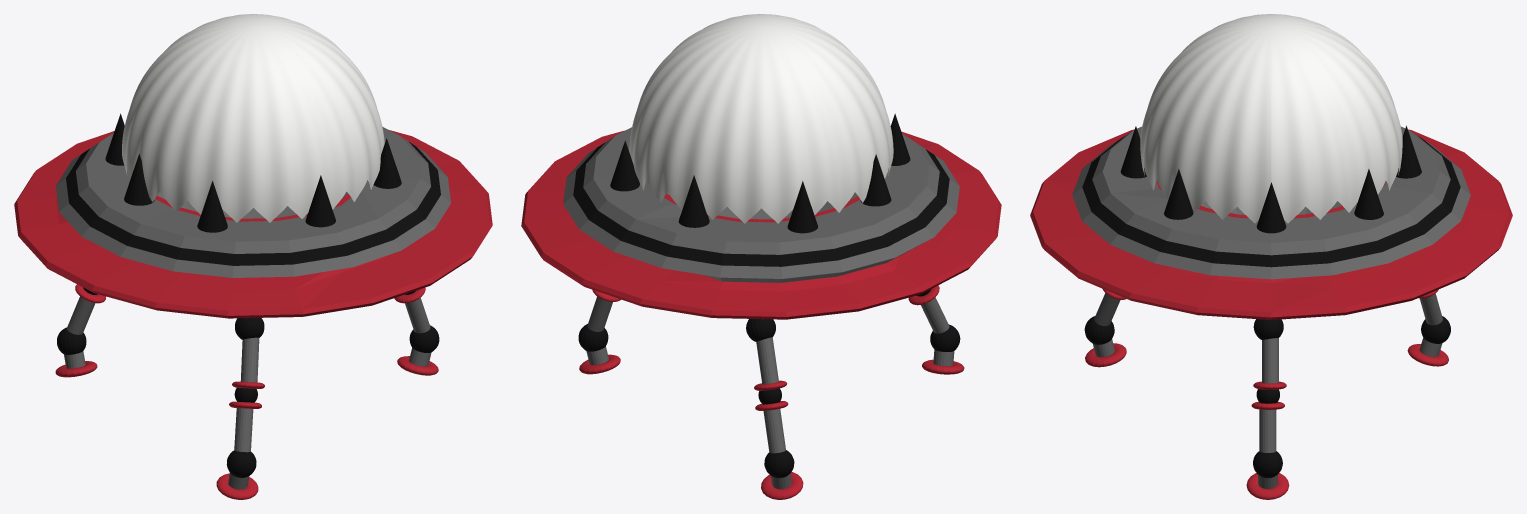
The model's file is fable_t01.glb.
3 views of the same model, side by side, from view 1: azimuth 30°, elevation 25°; view 2: azimuth 150°, elevation 25°; view 3: azimuth 270°, elevation 25° (orthographic).
Visible parts, largest first — view 1: slot_anchor_saucer, parachute_canopy, slot_legs; view 2: slot_anchor_saucer, parachute_canopy, slot_legs; view 3: slot_anchor_saucer, parachute_canopy, slot_legs.
Boxes of the visible parts, left/top/right/bottom form: slot_anchor_saucer: left=14, top=113, right=492, bottom=318; parachute_canopy: left=122, top=14, right=384, bottom=222; slot_legs: left=55, top=284, right=439, bottom=499; slot_anchor_saucer: left=521, top=113, right=1001, bottom=319; parachute_canopy: left=629, top=14, right=893, bottom=223; slot_legs: left=578, top=285, right=964, bottom=499; slot_anchor_saucer: left=1030, top=125, right=1512, bottom=319; parachute_canopy: left=1140, top=14, right=1402, bottom=223; slot_legs: left=1084, top=289, right=1450, bottom=499.
Size of the model in its own units: 2 by 1.77 by 2.
2 materials, 1 textured.
